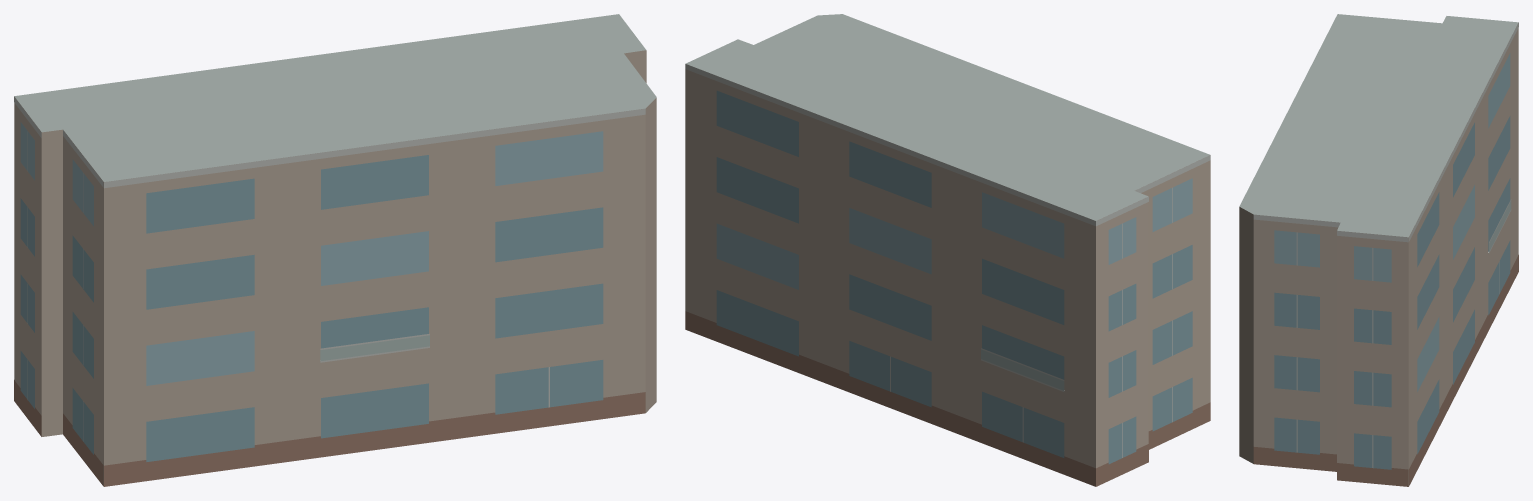
Rendered from survey-upis-32531678.glb.
3 renders of one model, left to right at view 1: azimuth 30°, elevation 25°; view 2: azimuth 150°, elevation 25°; view 3: azimuth 270°, elevation 25°, orthographic. The views are drawn at different scales.
Parts seen in each view (by area): view 1: survey-upis-32531678.tmp; view 2: survey-upis-32531678.tmp; view 3: survey-upis-32531678.tmp.
Boxes of the visible parts, x1,y1,x2,y2 form: survey-upis-32531678.tmp: [14, 14, 656, 486]; survey-upis-32531678.tmp: [685, 14, 1210, 486]; survey-upis-32531678.tmp: [1239, 14, 1518, 486].
Bounding box in the file's own units: 23.22 × 12.1 × 12.29.
